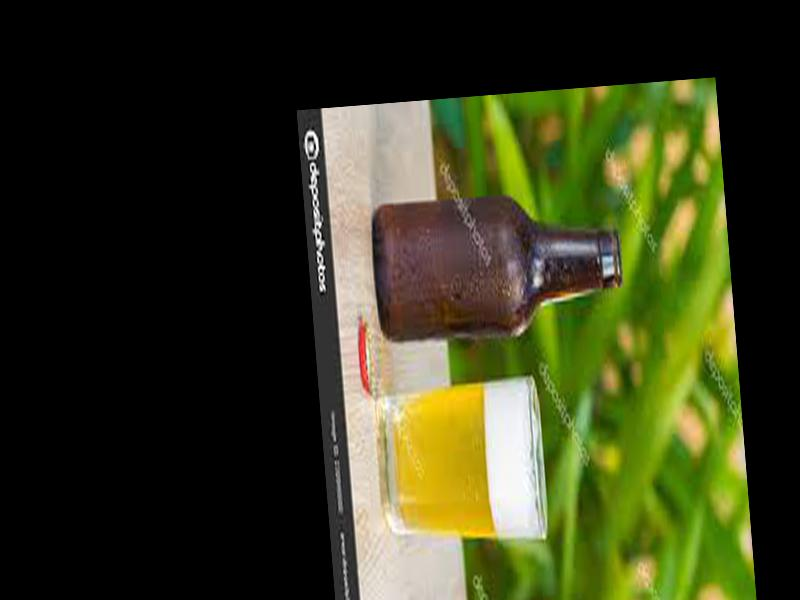Beer: (368, 192, 624, 344)
